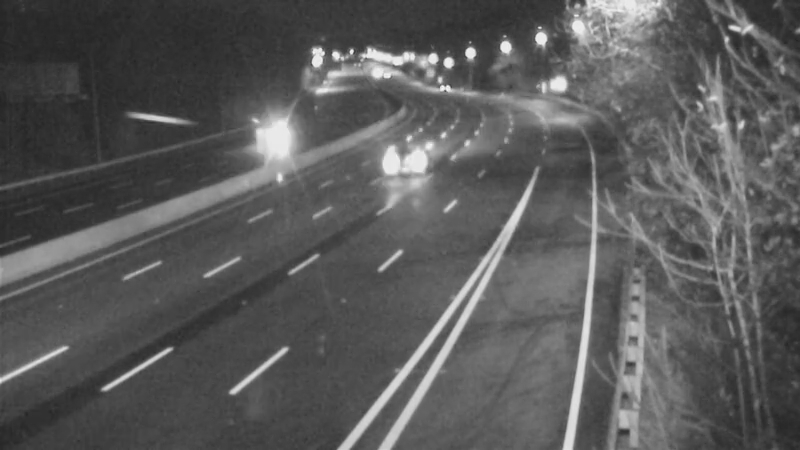vehicle: (363, 126, 443, 206), (418, 61, 468, 111), (254, 114, 304, 164)
